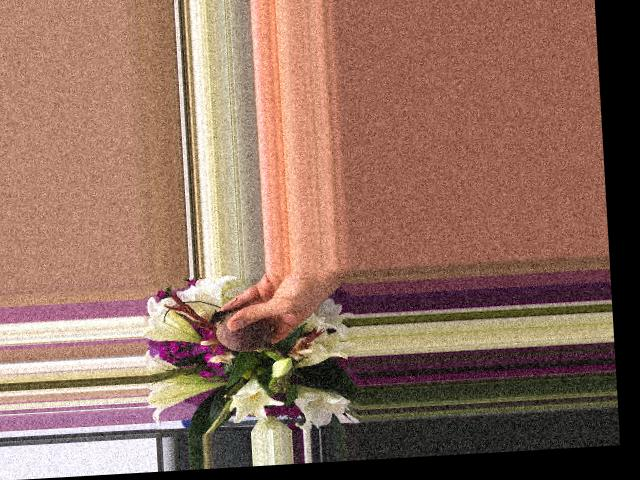beet: (209, 306, 287, 363)
